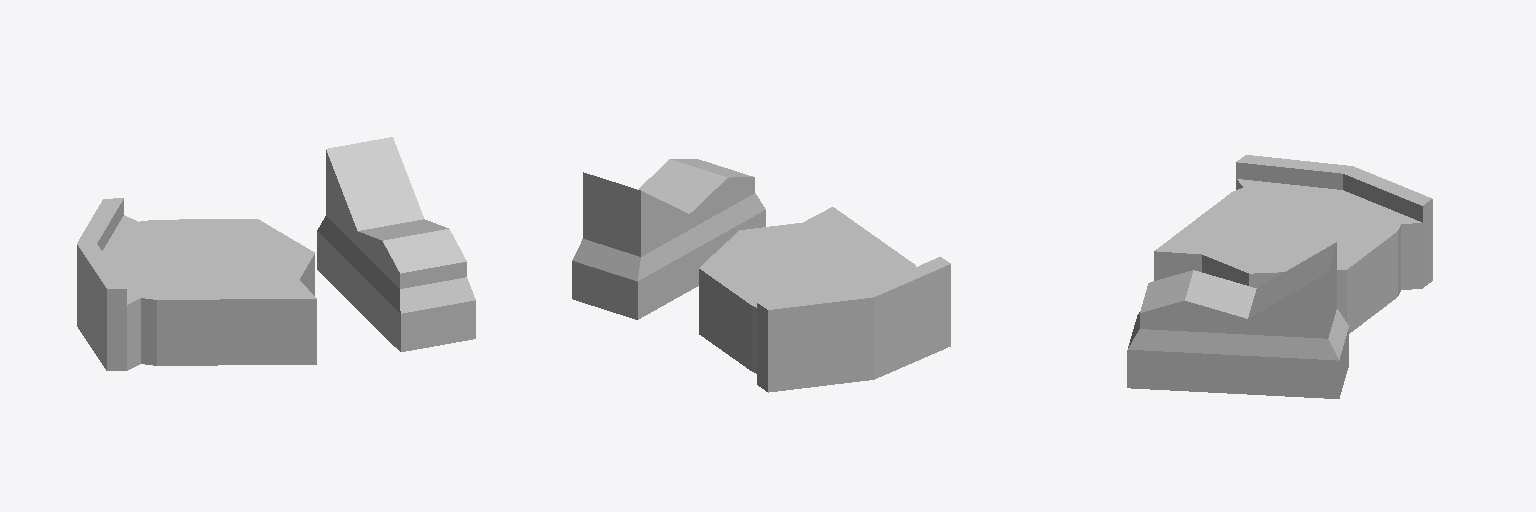
Rendered from Gravestone_Debris_2.obj.
3 renders of one model, left to right at view 1: azimuth 30°, elevation 25°; view 2: azimuth 150°, elevation 25°; view 3: azimuth 270°, elevation 25°, orthographic.
Visible parts, largest first — view 1: Gravestone_Debris_2; view 2: Gravestone_Debris_2; view 3: Gravestone_Debris_2.
Part boxes in pixels (x1,y1,x2,y2): Gravestone_Debris_2: (77, 137, 475, 370); Gravestone_Debris_2: (572, 159, 950, 392); Gravestone_Debris_2: (1127, 155, 1432, 398).
Size of the model in its own units: 0.7011 by 0.251 by 0.5575.